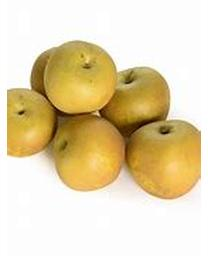apple: (125, 119, 200, 199), (52, 115, 126, 193), (42, 40, 116, 115), (100, 66, 171, 134), (6, 89, 58, 157)
